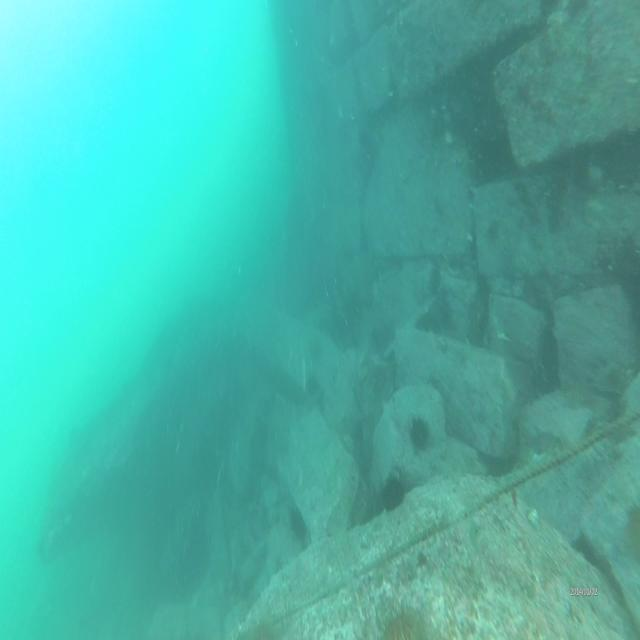echinus: (380, 476, 406, 515), (411, 417, 432, 453)
